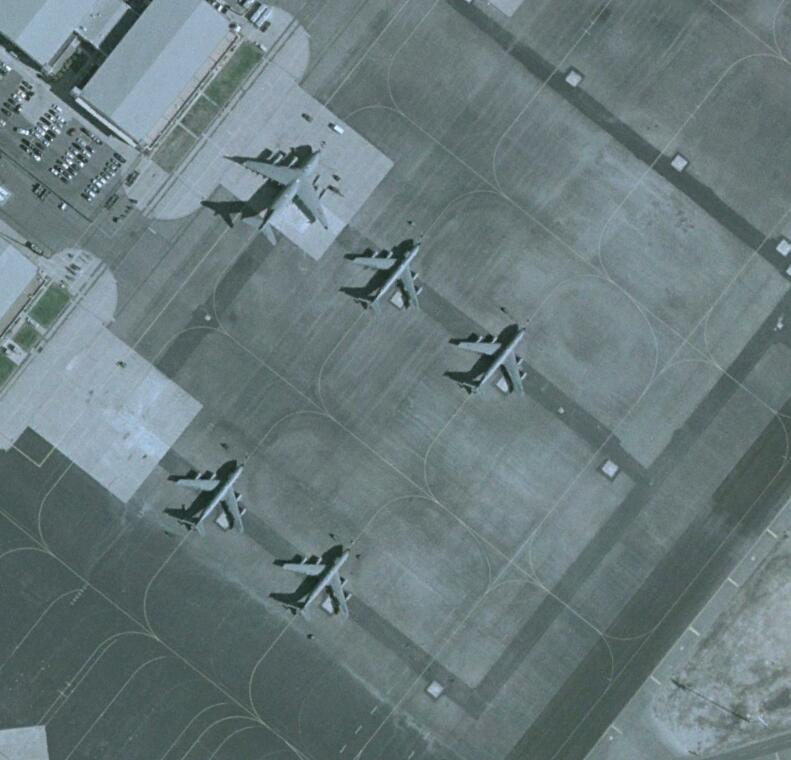A14: (350, 239, 431, 318), (281, 542, 355, 624), (174, 457, 248, 539), (456, 323, 528, 400)
A3: (241, 147, 333, 247)
